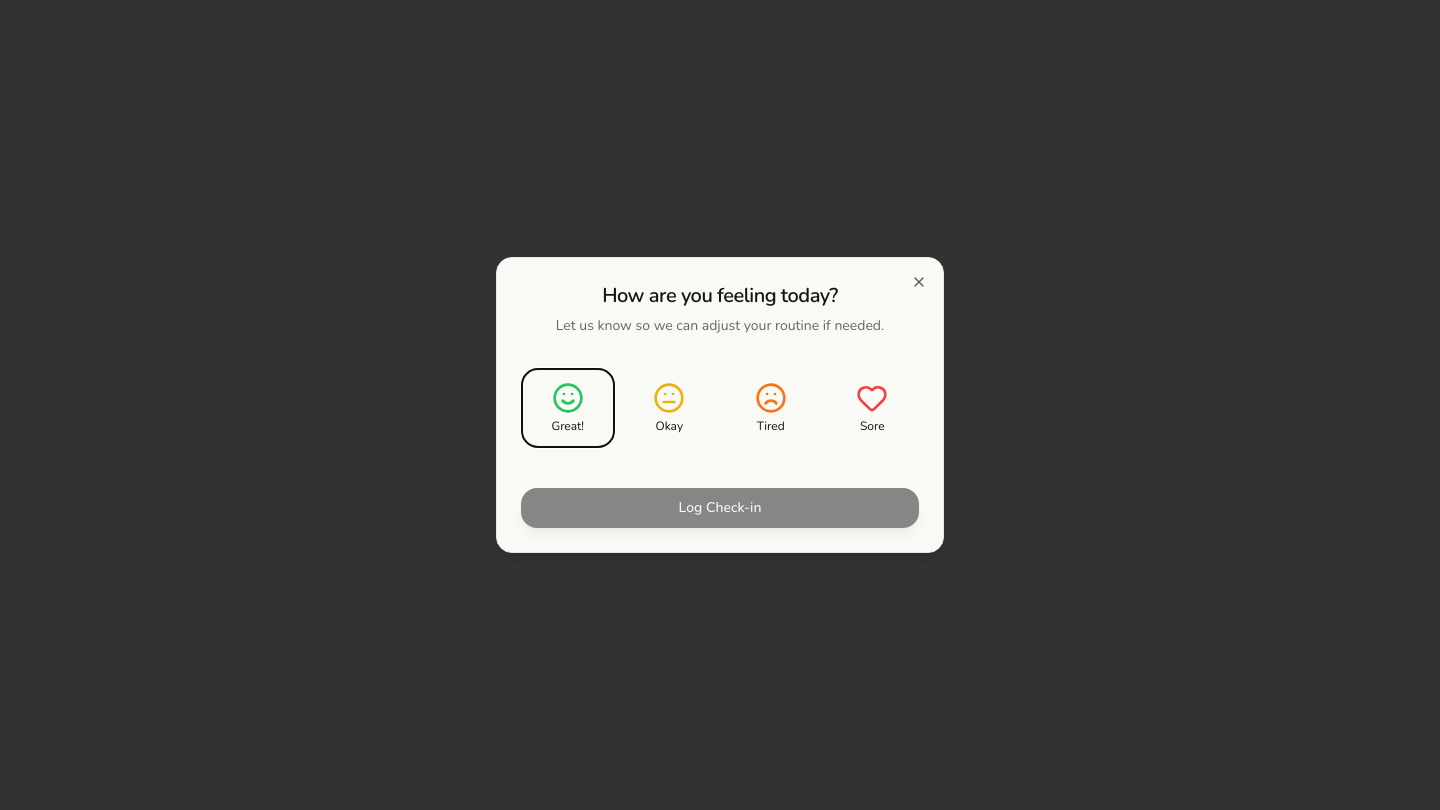
Test case: CheckInModal › sentiment selection › shows notes field for tired sentiment
The width and height of the screenshot is (1440, 810).
Expected: the dialog is shown, x1=496 y1=257 x2=944 y2=553
Note: Click tired button
Click the button "Tired" at {"x": 771, "y": 408}, box x1=724 y1=368 x2=818 y2=448
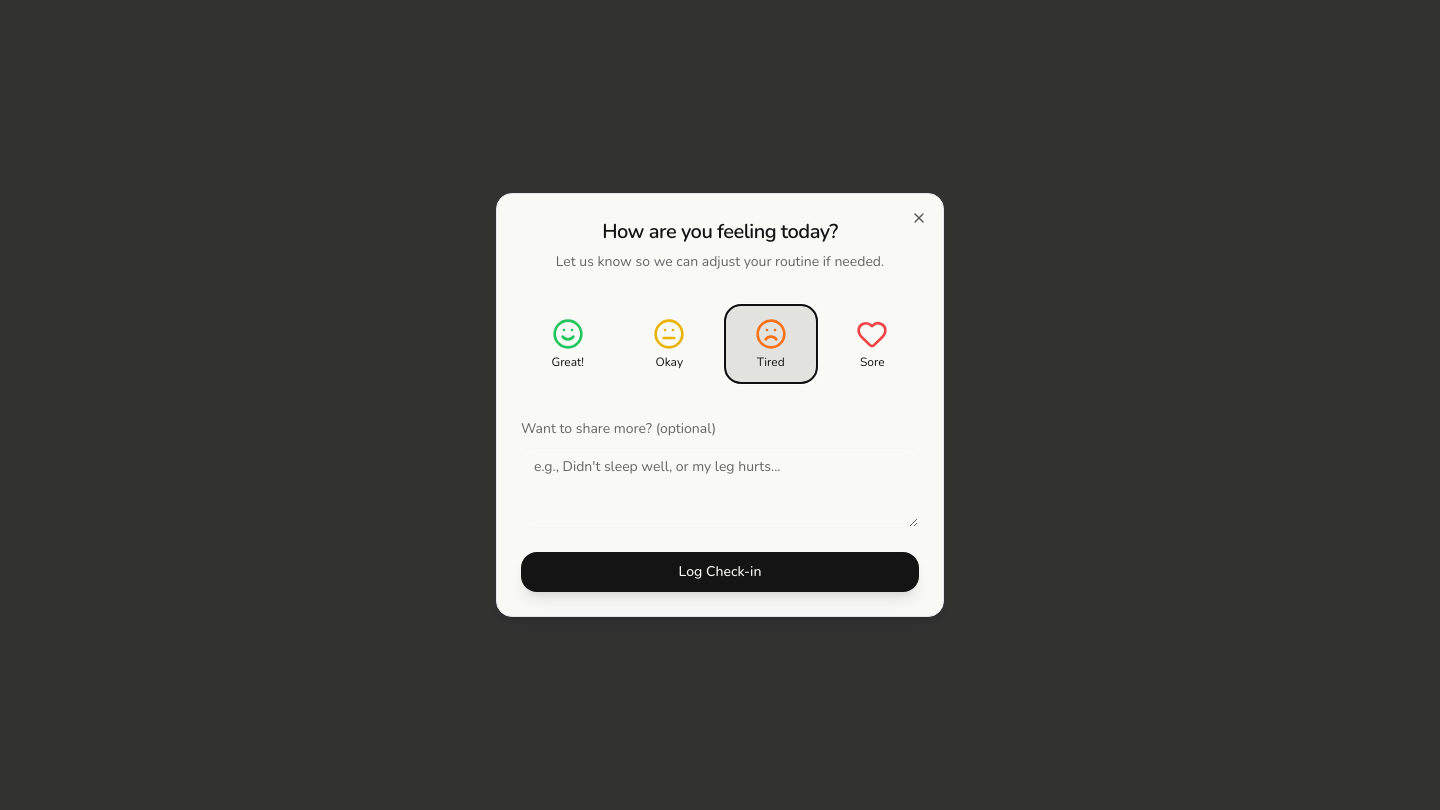
Result: the text box is shown at x1=521 y1=448 x2=919 y2=528
